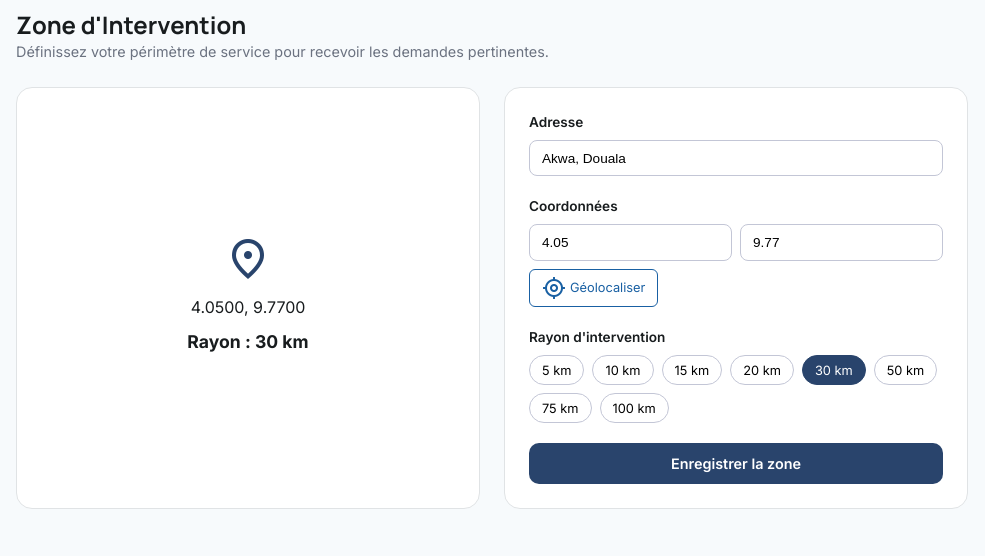
Scenario: ZoneIntervention › relaie l'erreur de validation du serveur
Expected: the text "Rayon : 30 km" is shown, [187,328,309,356]
Click the button "Enregistrer la zone" at (736, 464), box [529,443,943,484]
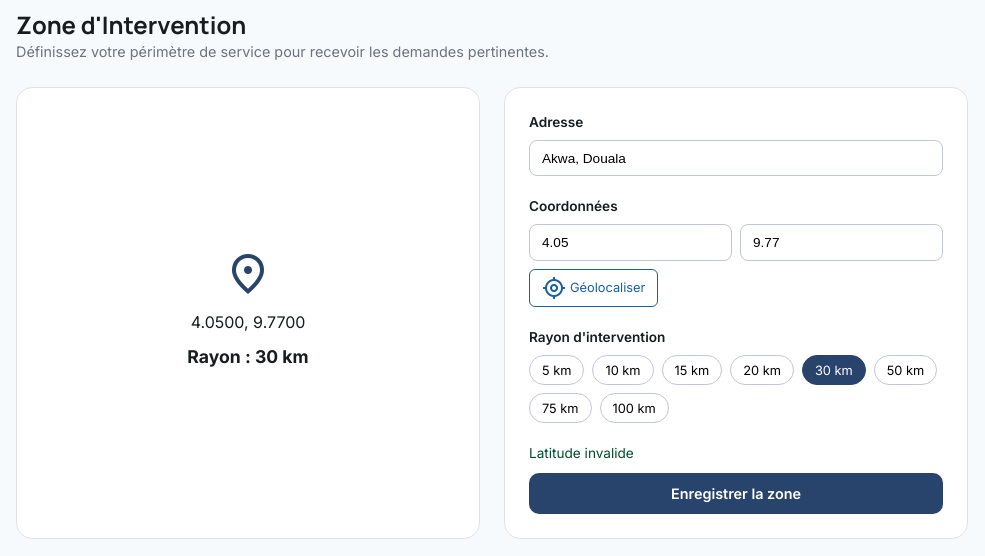
Expected: the text "Latitude invalide" is shown, [529,445,634,461]
